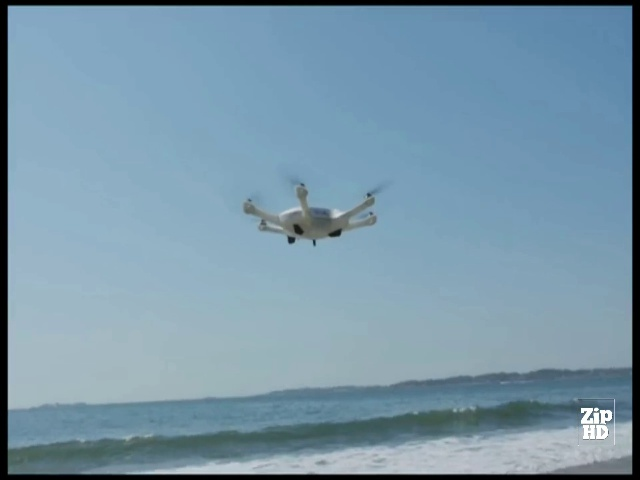drone: (230, 158, 399, 251)
